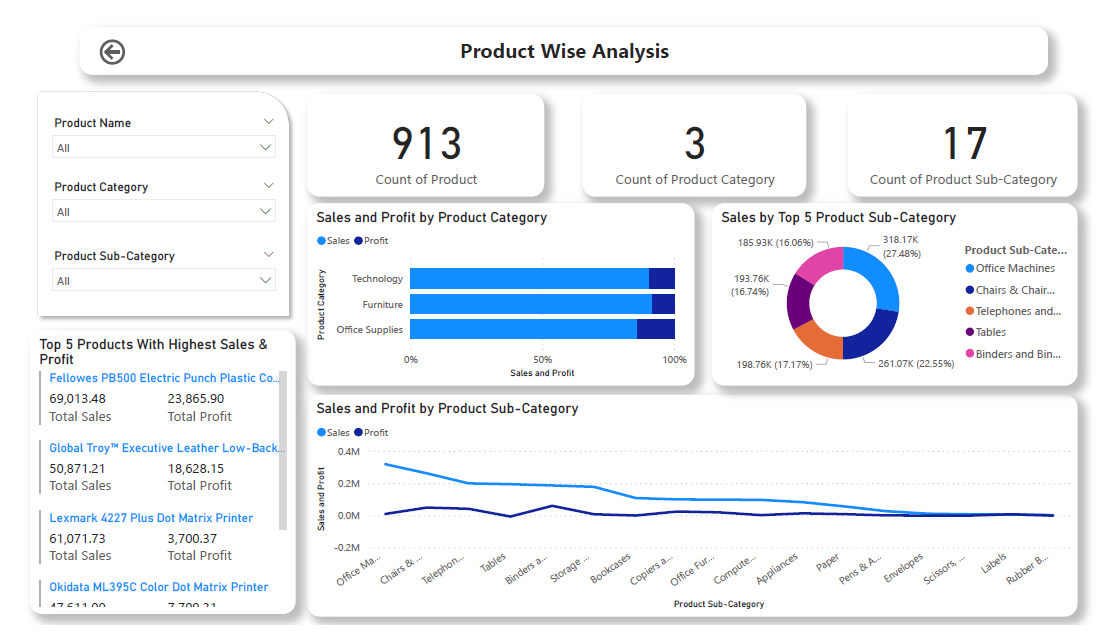

The dashboard page shown, as its layout file describes it:
{"tool":"powerbi","page":{"name":"Product Wise Analysis","canvas":[1280,720],"ordinal":3},"visuals":[{"type":"textbox","box":[72.4,8.4,1153,56.7],"z":0},{"type":"actionButton","box":[90.6,17.9,42.6,39.8],"z":1000},{"type":"shape","box":[13.3,76,317.2,284.6],"z":2000},{"type":"slicer","fields":{"Values":["Order Details.Product Name"]},"box":[28.9,108.5,287,82],"z":3000},{"type":"slicer","fields":{"Values":["Order Details.Product Category"]},"box":[28.9,184.5,287,82],"z":4000},{"type":"slicer","fields":{"Values":["Order Details.Product Sub-Category"]},"box":[28.9,266.5,287,82],"z":5000},{"type":"card","fields":{"Values":["Order Details.Count of Product"]},"box":[342.5,88,282.2,121.8],"z":6000},{"type":"card","fields":{"Values":["Order Details.Count of Product Category"]},"box":[670.6,88,266.5,121.8],"z":7000},{"type":"card","fields":{"Values":["Order Details.Count of Product Sub-Category"]},"box":[986.5,88,273.8,121.8],"z":8000},{"type":"hundredPercentStackedBarChart","fields":{"Category":["Order Details.Product Category"],"Y":["Sum(Order Details.Sales)","Sum(Order Details.Profit)"]},"box":[342.5,218.3,461.9,217.1],"z":9000},{"type":"lineChart","fields":{"Category":["Order Details.Product Sub-Category"],"Y":["Sum(Order Details.Sales)","Sum(Order Details.Profit)"]},"box":[342.5,446.2,917.8,264.1],"z":10000},{"type":"donutChart","title":"Sales by Top 5 Product Sub-Category","fields":{"Category":["Order Details.Product Sub-Category"],"Y":["Sum(Order Details.Sales)"]},"box":[824.9,218.3,435.4,217.1],"z":11000},{"type":"multiRowCard","title":"Top 5 Products With Highest Sales & Profit","fields":{"Values":["Order Details.Product Name","Sum(Order Details.Sales)","Sum(Order Details.Profit)"]},"box":[13.3,369,316,337.7],"z":12000}]}

Visuals, with their boxes in screenshot pixels (x1, y1, x2, y2), scaled from the page's 1280x720 canvas onto the 1114x643 screenshot:
textbox: rect(63, 8, 1066, 58)
actionButton: rect(79, 16, 116, 52)
shape: rect(12, 68, 288, 322)
slicer - Order Details.Product Name: rect(25, 97, 275, 170)
slicer - Order Details.Product Category: rect(25, 165, 275, 238)
slicer - Order Details.Product Sub-Category: rect(25, 238, 275, 311)
card - Order Details.Count of Product: rect(298, 79, 544, 187)
card - Order Details.Count of Product Category: rect(584, 79, 816, 187)
card - Order Details.Count of Product Sub-Category: rect(859, 79, 1097, 187)
hundredPercentStackedBarChart - Order Details.Product Category x Sum(Order Details.Sales): rect(298, 195, 700, 389)
lineChart - Order Details.Product Sub-Category x Sum(Order Details.Sales): rect(298, 398, 1097, 634)
"Sales by Top 5 Product Sub-Category" donutChart: rect(718, 195, 1097, 389)
"Top 5 Products With Highest Sales & Profit" multiRowCard: rect(12, 330, 287, 631)
